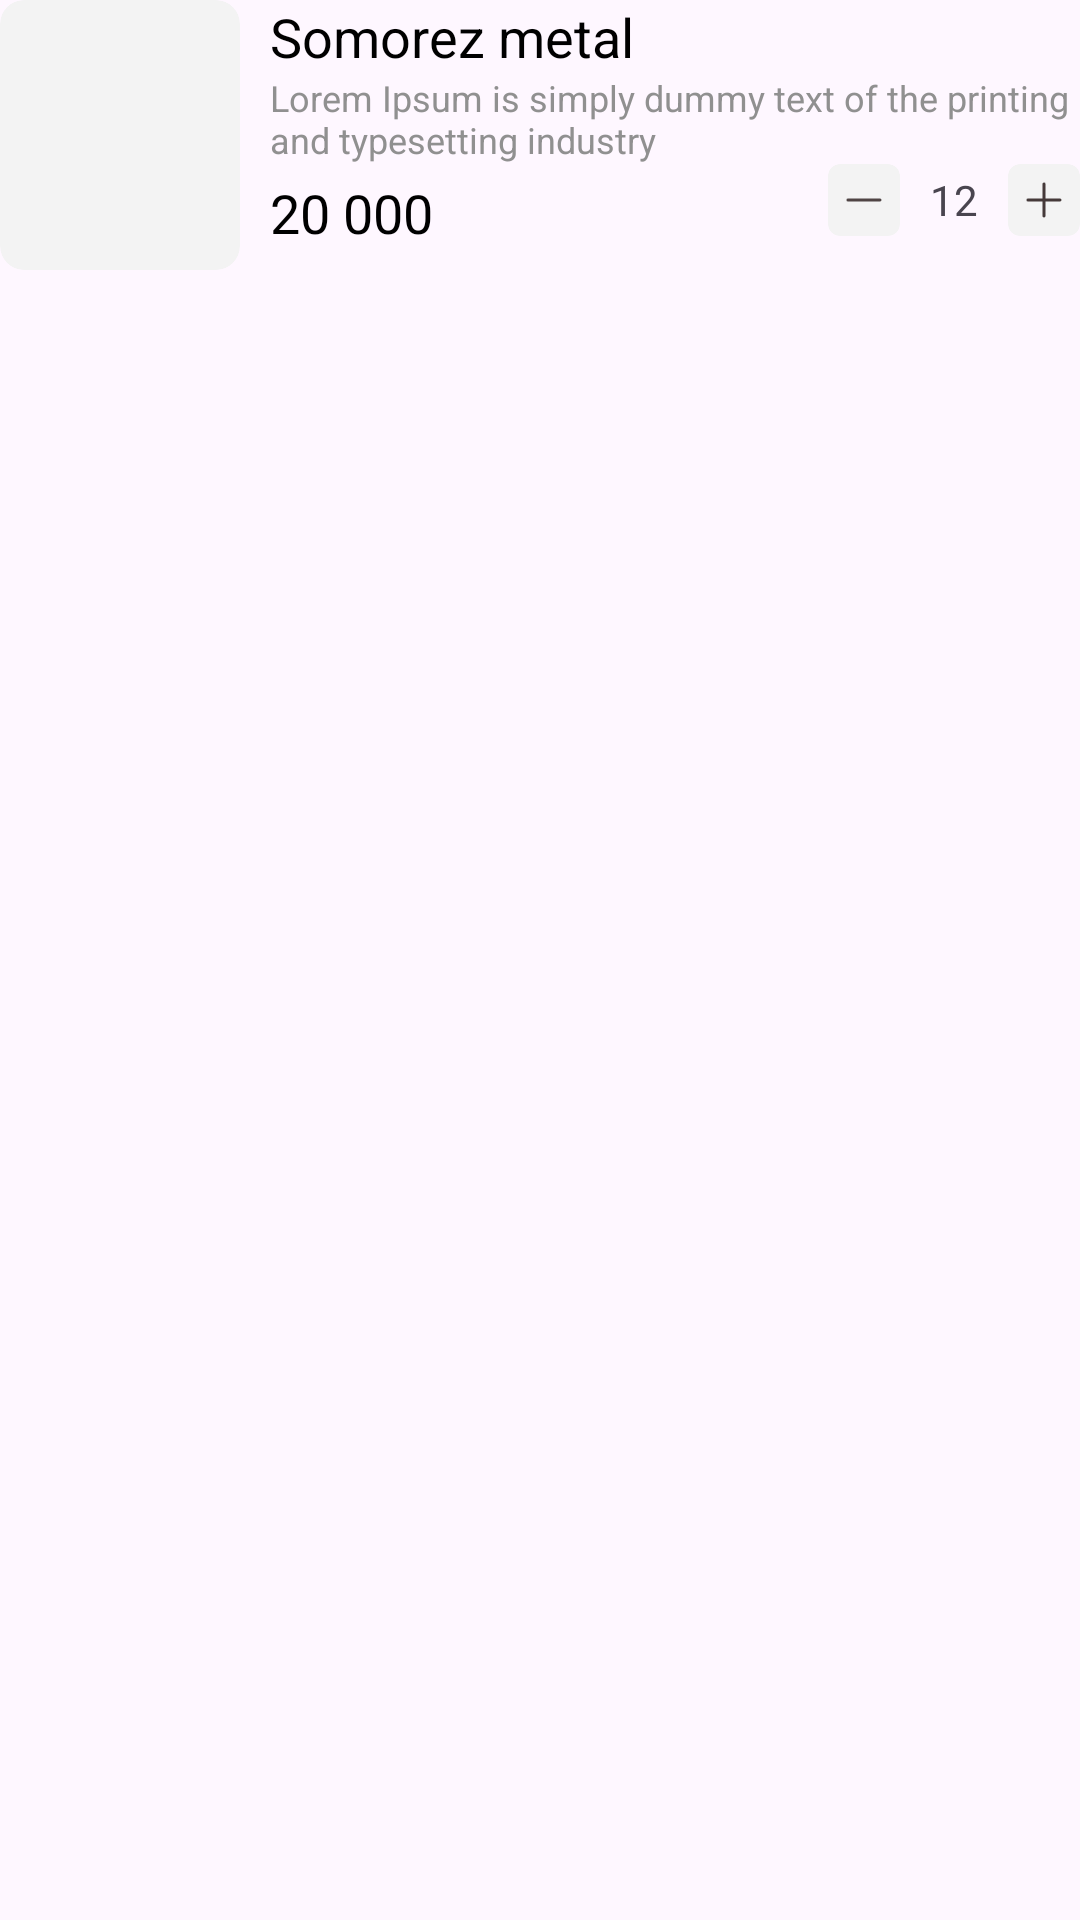

Named icons in this screenshot (1080w x 1920h) and their bounding boxes, {"left": x1, "top": y1, "right": x2, "bottom": y2}:
plus: {"left": 1026, "top": 182, "right": 1062, "bottom": 218}
